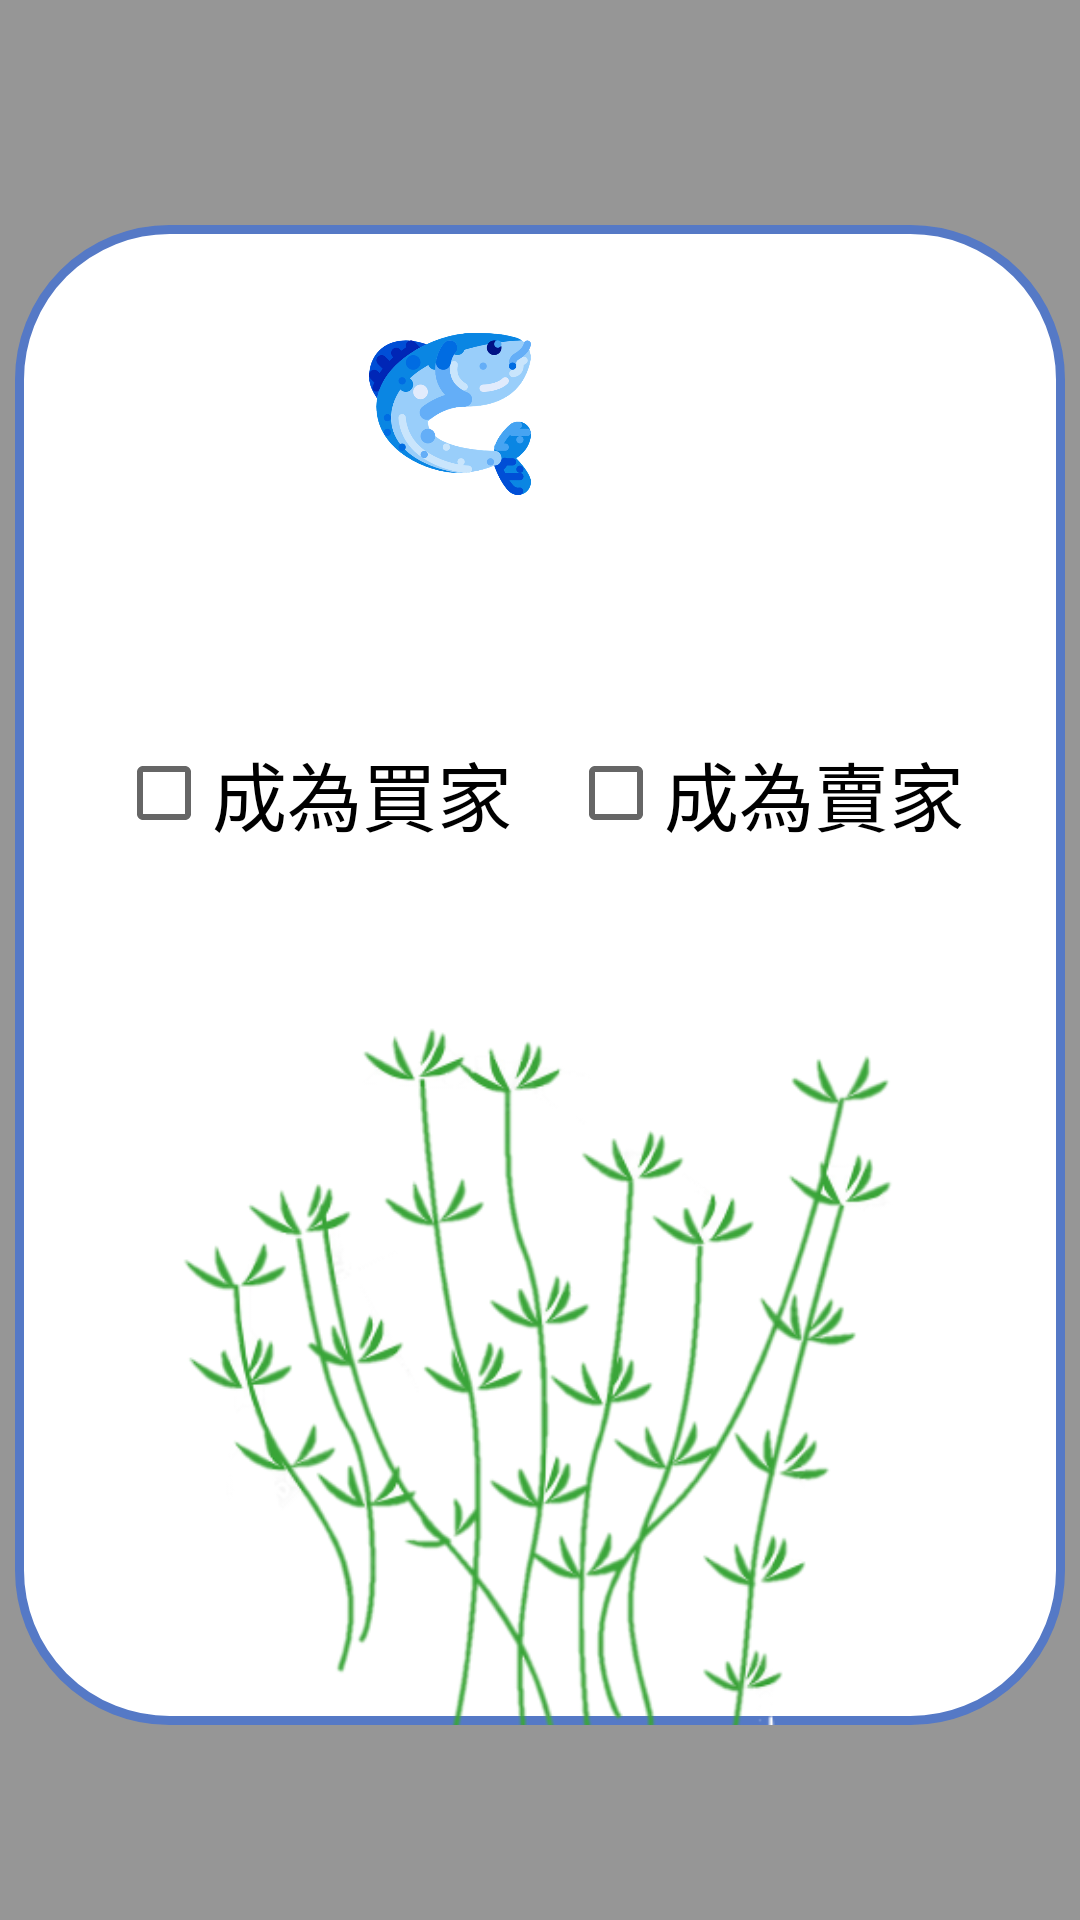

Where to tap for icons on this 1080w x 1920h app screen, as point (x, y):
fishileft: point (450, 414)
